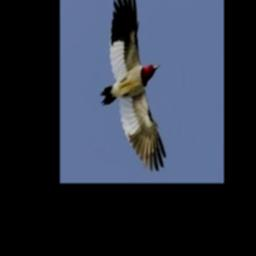Woodpecker: (100, 0, 166, 171)
